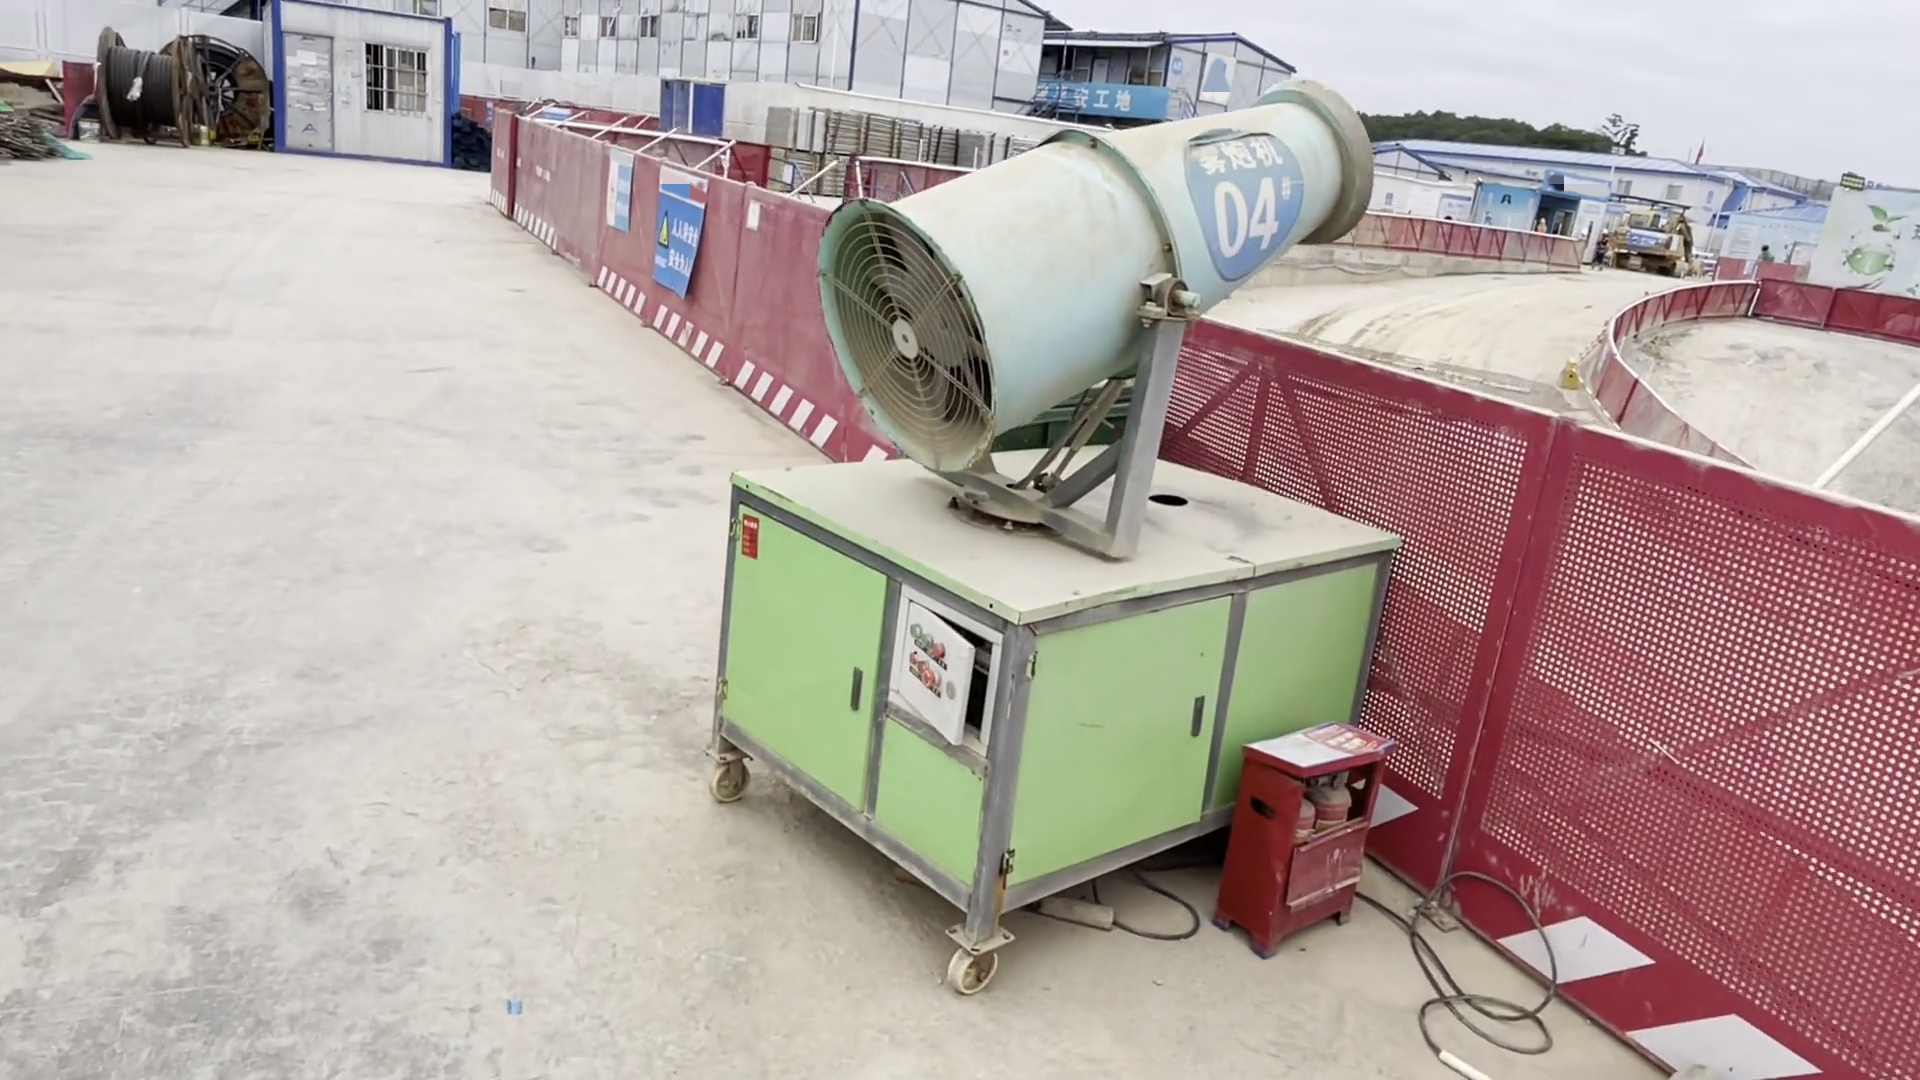slogan: (653, 214, 708, 285)
